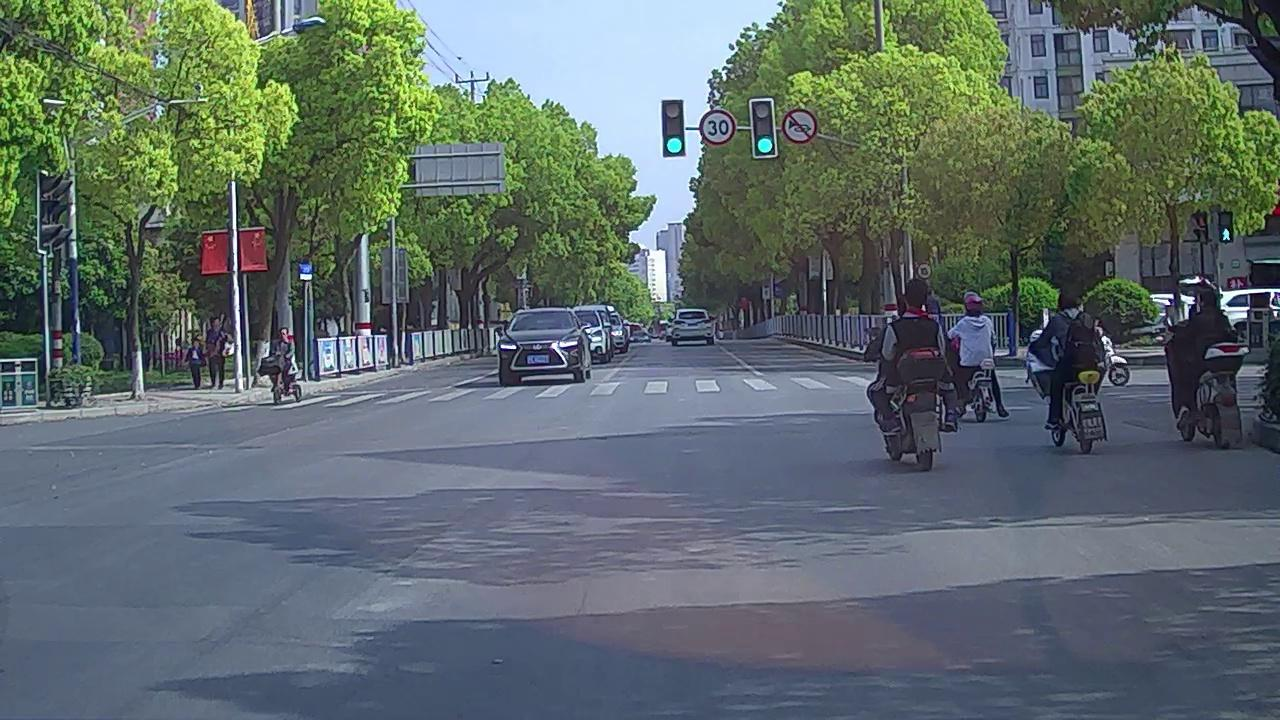traffic_light: (751, 100, 776, 156), (661, 100, 684, 157)
